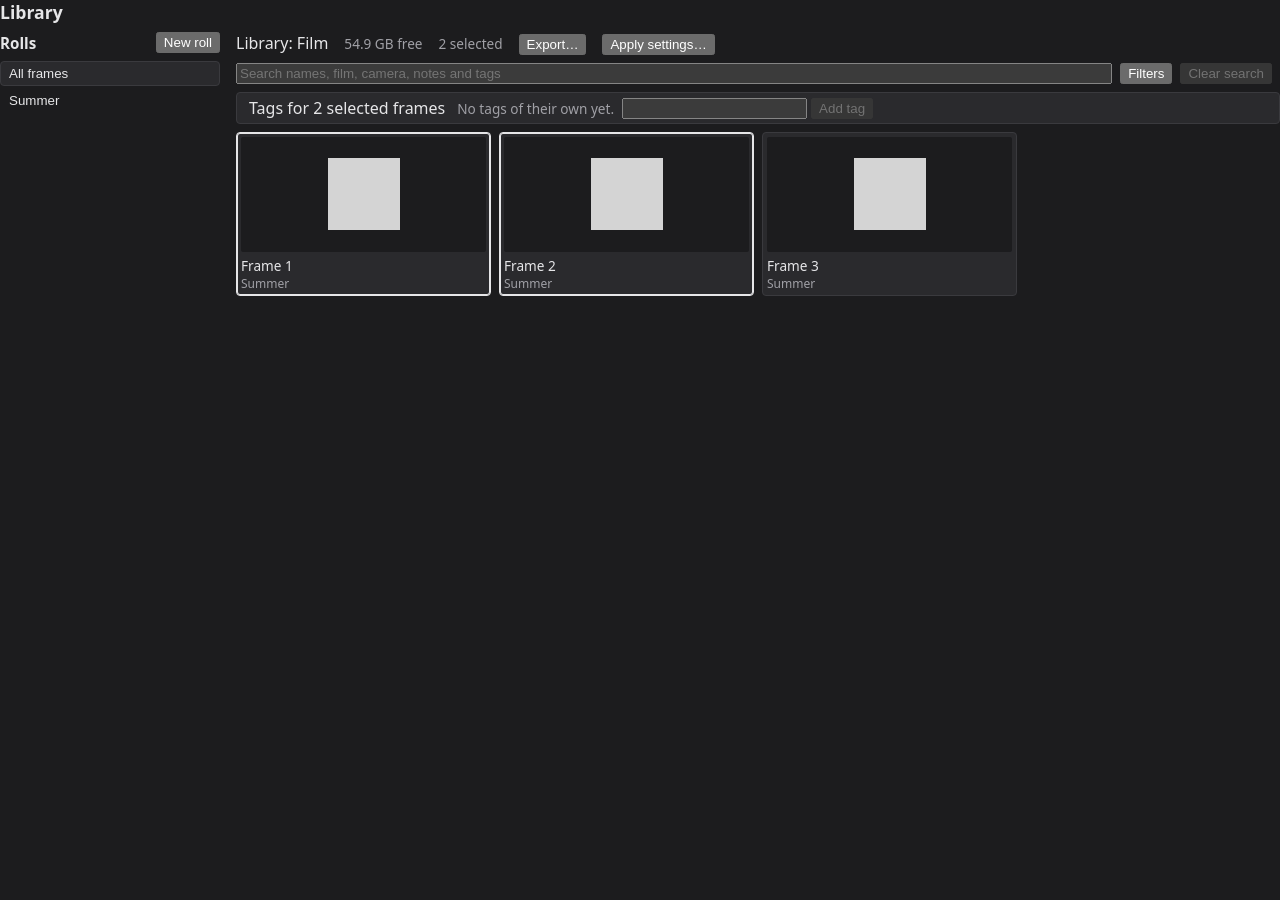
ApplySettingsDialog › the choices › cannot apply with no group chosen, and says so
What coordinates should you click on to do the following:
click the button "Apply settings…"
I would click on:
 (659, 44)
Its box is [602,34,715,55].
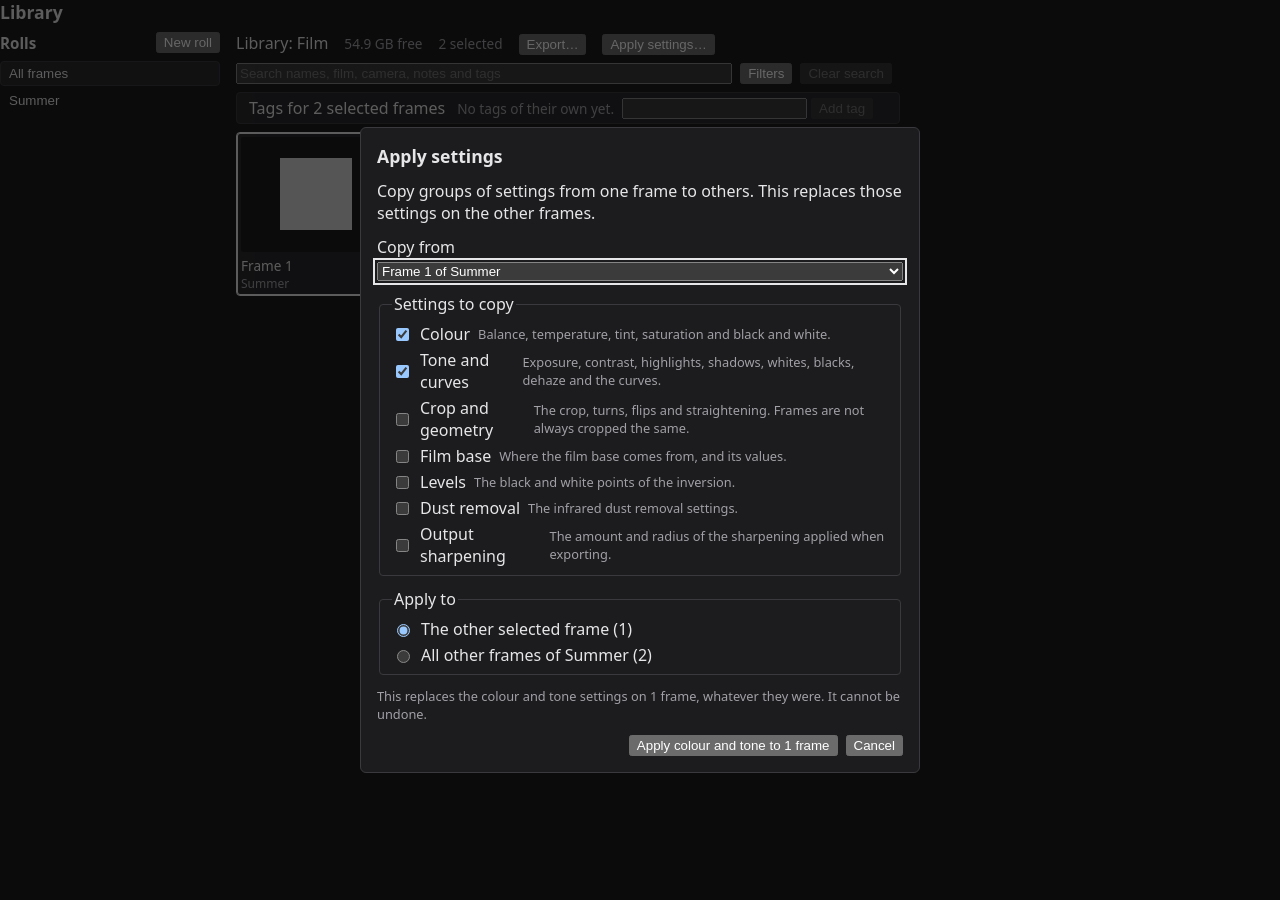
Check: the dialog "Apply settings" is shown, box [360,127,920,773]
Check: the radio button labelled "All other frames of Summer (2)" is shown, box [397,650,410,663]
What coordinates should you click on to do the following:
click the checkbox labelled "Colour"
I would click on:
 (402, 334)
Its box is [396,328,409,340].
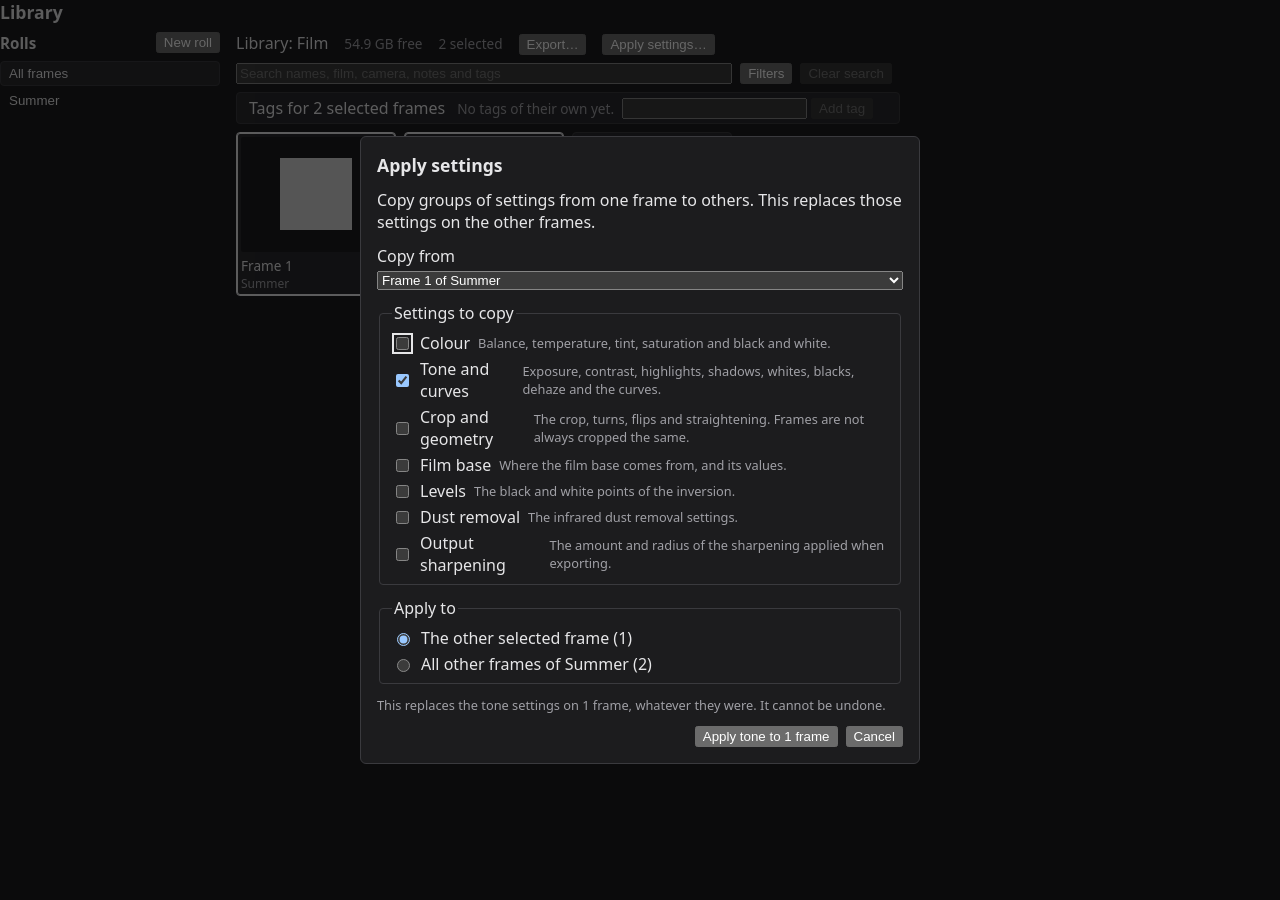
What coordinates should you click on to do the following:
click the checkbox labelled "Tone and curves"
I would click on:
 (402, 380)
Its box is [396,374,409,386].
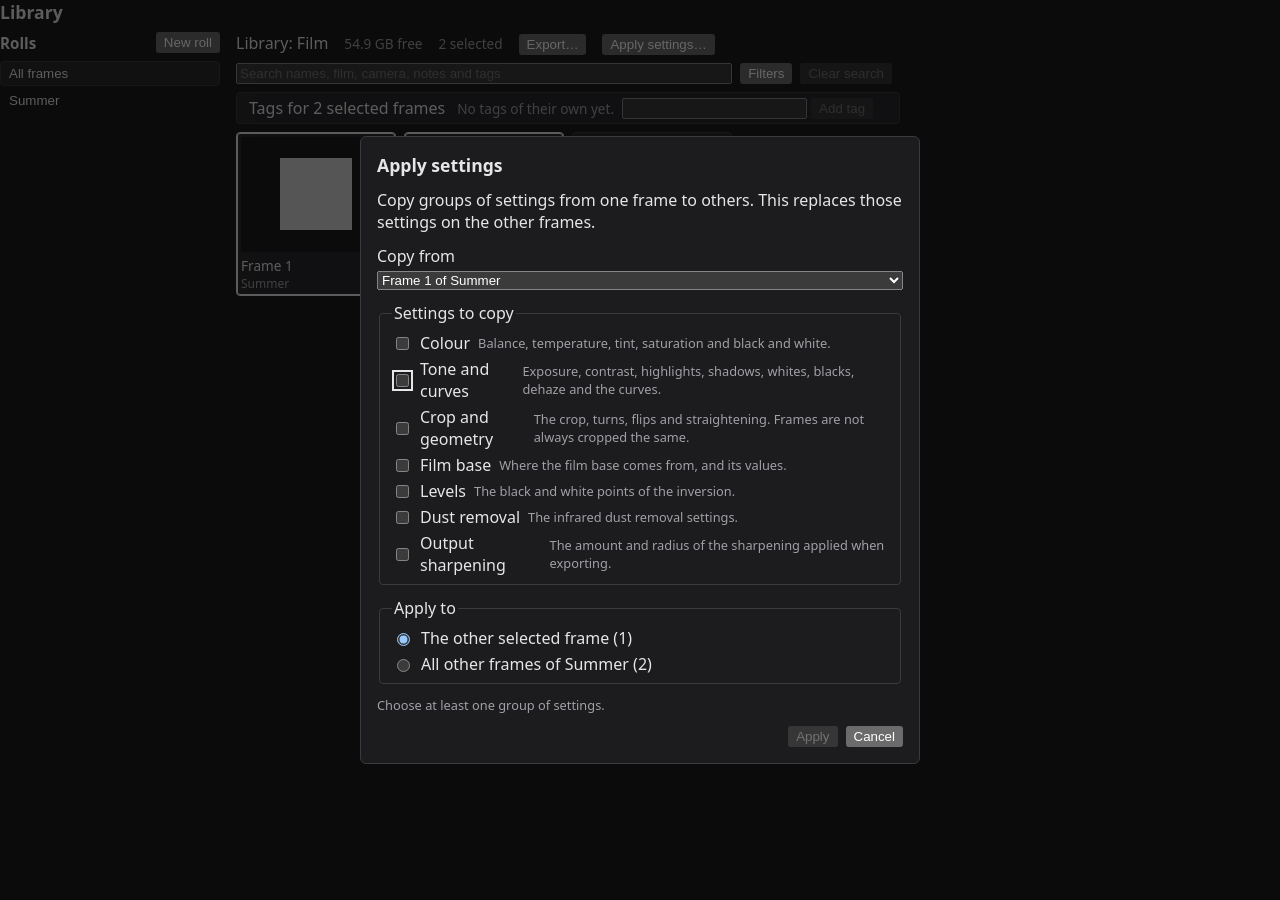
Check: the button "Apply" is disabled, box [788,726,838,747]
Check: the text "Choose at least one group of settings." is shown, box [377,696,605,714]
